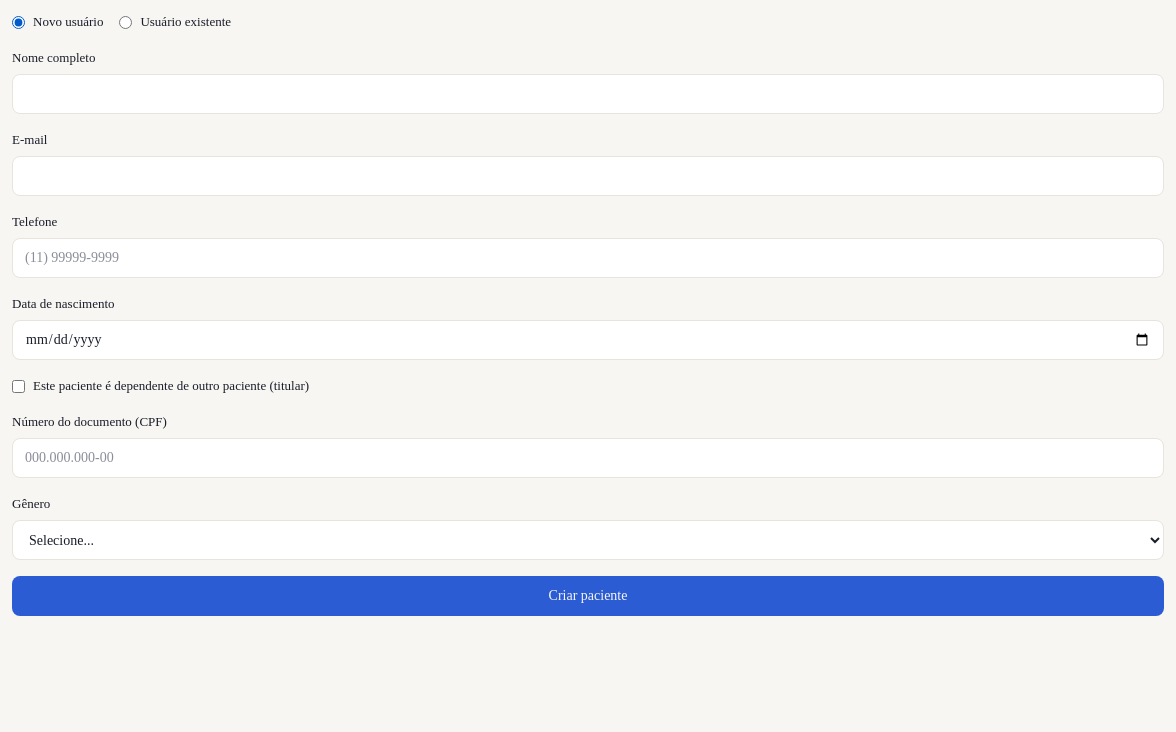
Test: PatientForm (integration) — create mode › shows validation error when no user selected in existing mode
Click the radio button with test id "patient-form-user-mode-existing": (126, 22) [119, 16, 132, 28]
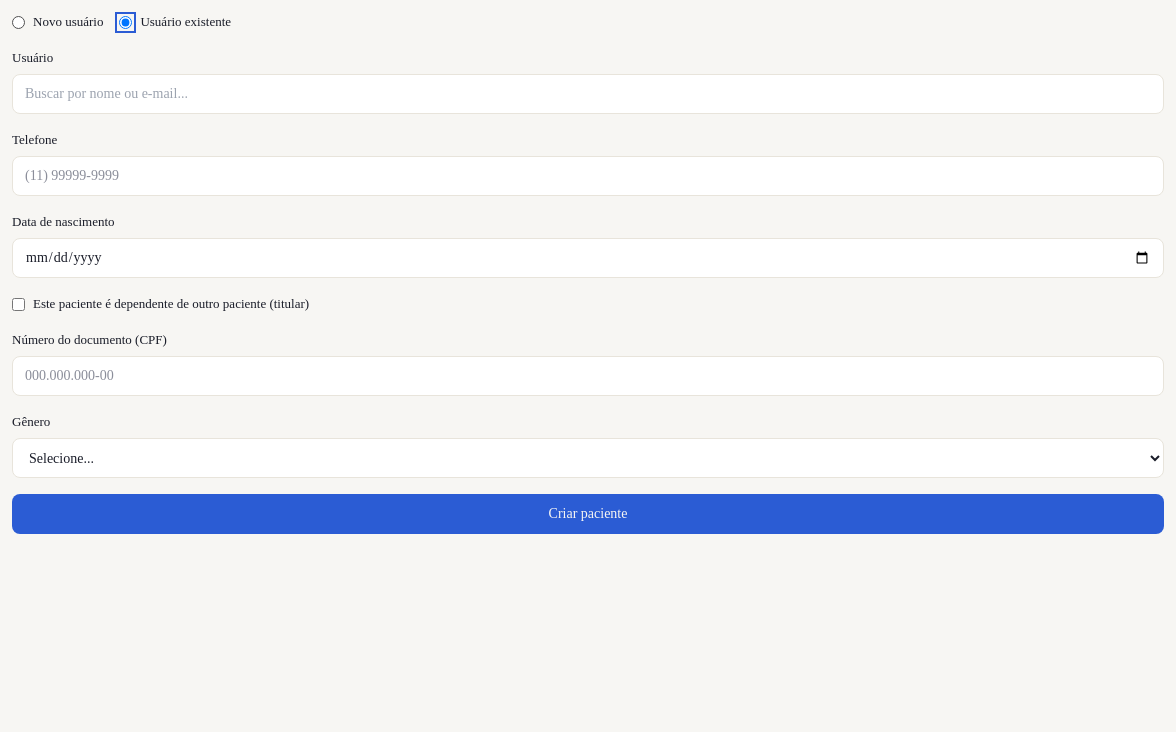
Click the button with test id "patient-form-submit": (588, 514) [12, 494, 1164, 534]
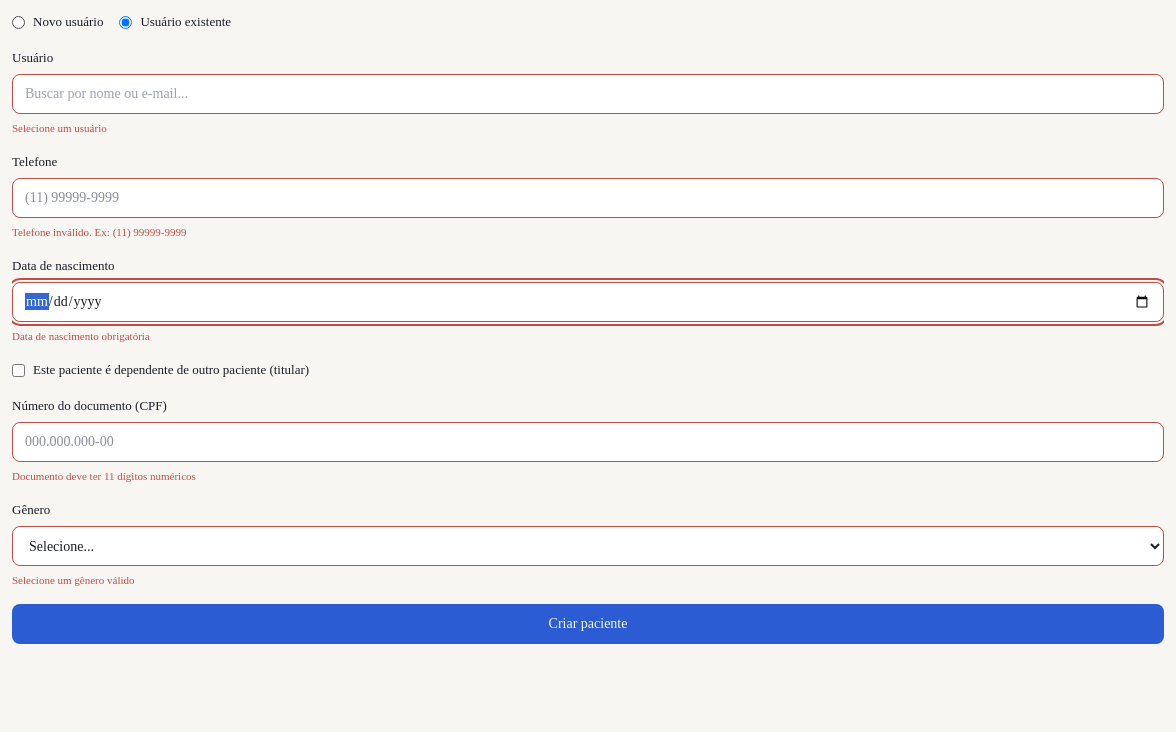
Expected: the text "Selecione um usuário" is shown, [12, 122, 107, 134]
